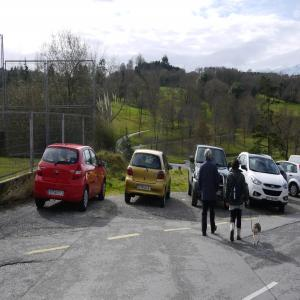Vehicle-registration-plate: (48, 190, 64, 197), (268, 197, 279, 202), (139, 185, 151, 189), (217, 192, 221, 195)
